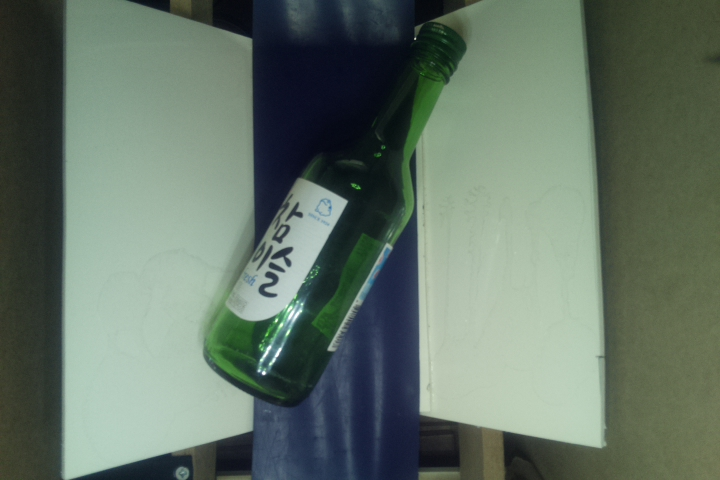soju: (202, 18, 467, 408)
